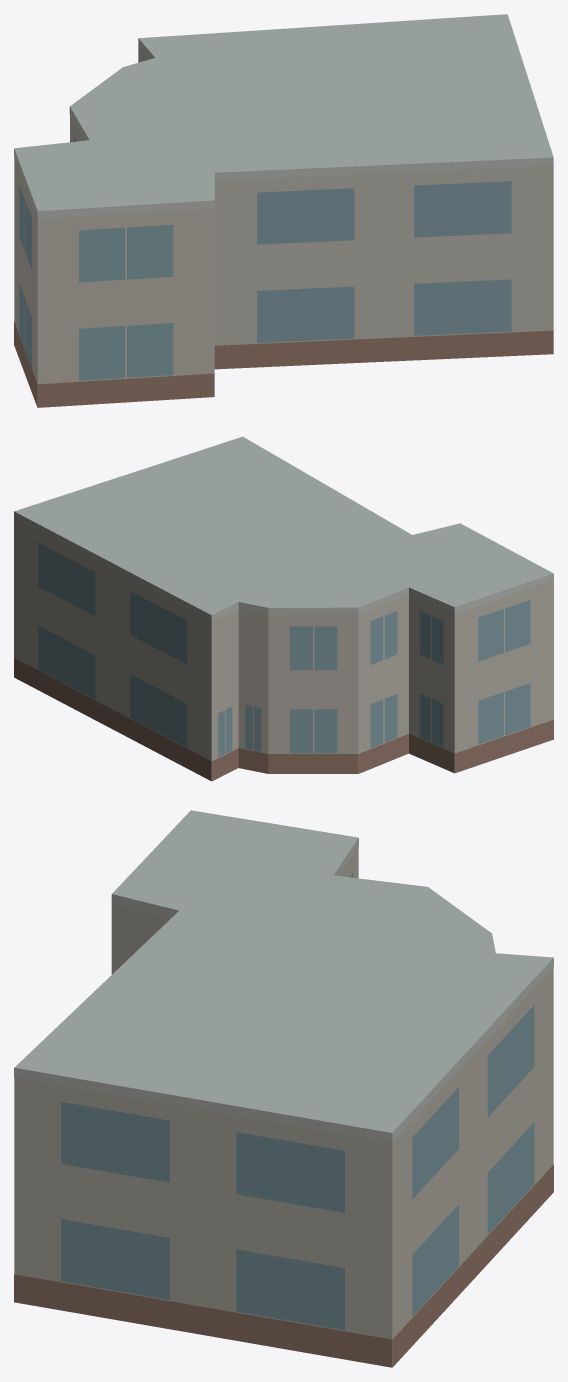
File: survey-upis-32876785.glb
3 renders of one model, top to bottom at view 1: azimuth 30°, elevation 25°; view 2: azimuth 150°, elevation 25°; view 3: azimuth 270°, elevation 25°, orthographic. The views are drawn at different scales.
Parts seen in each view (by area): view 1: survey-upis-32876785.tmp; view 2: survey-upis-32876785.tmp; view 3: survey-upis-32876785.tmp.
Boxes of the visible parts, left/top/right/bottom form: survey-upis-32876785.tmp: left=14, top=14, right=553, bottom=407; survey-upis-32876785.tmp: left=14, top=436, right=553, bottom=781; survey-upis-32876785.tmp: left=14, top=810, right=553, bottom=1367.
Size of the model in its own units: 18.01 by 6.1 by 12.73.
